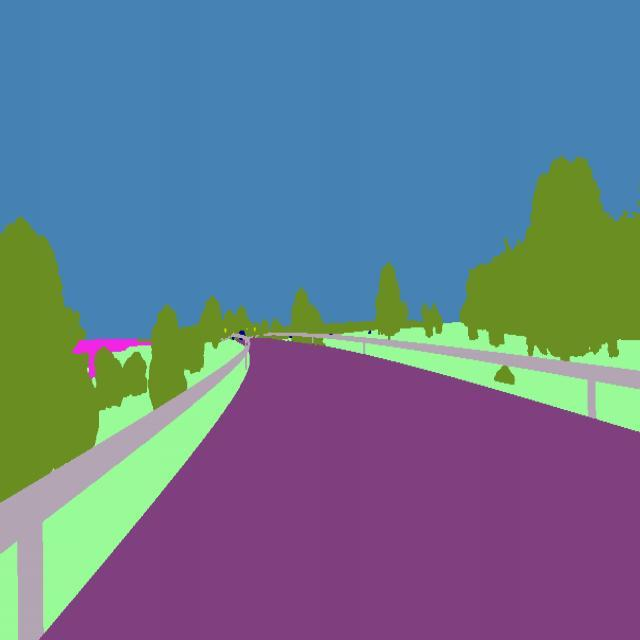safe: (234, 326, 252, 347)
